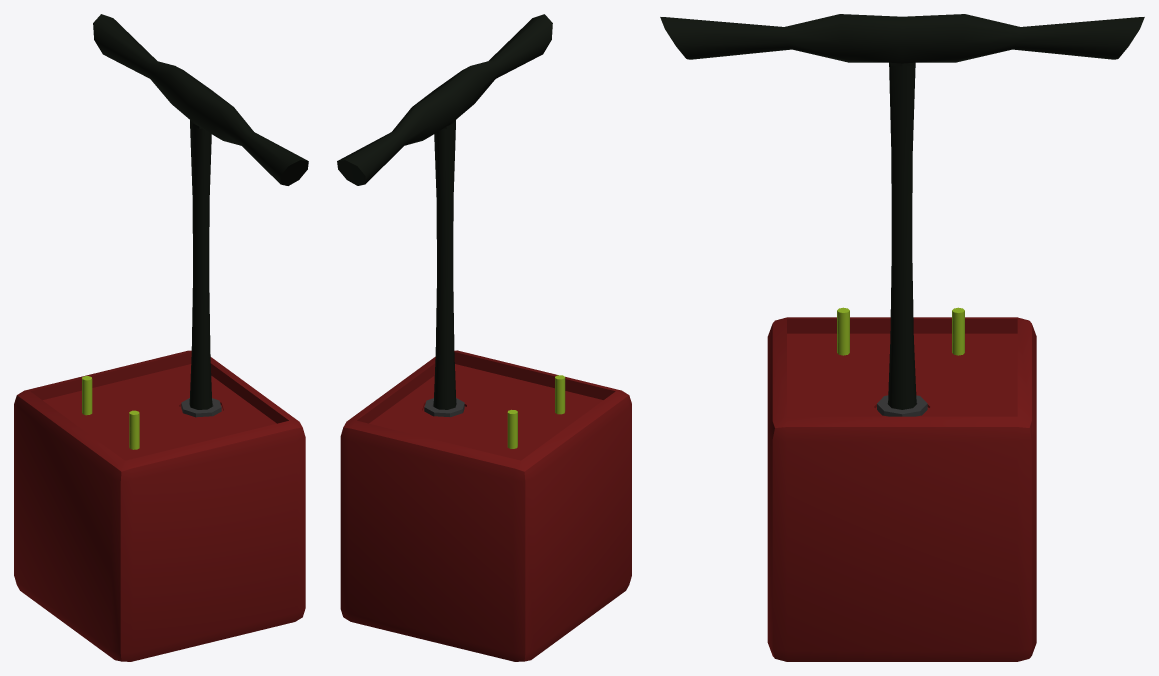
File: Detonator.fbx
3 renders of one model, left to right at view 1: azimuth 30°, elevation 25°; view 2: azimuth 150°, elevation 25°; view 3: azimuth 270°, elevation 25°, orthographic. The views are drawn at different scales.
Parts seen in each view (by area): view 1: Box001, Cylinder002, Object001; view 2: Box001, Cylinder002, Object001; view 3: Box001, Cylinder002.
Part boxes in pixels (<box>): Box001: <box>14,350,305,661</box>; Cylinder002: <box>93,14,308,409</box>; Object001: <box>181,398,221,417</box>; Box001: <box>340,350,631,661</box>; Cylinder002: <box>337,14,552,409</box>; Object001: <box>424,398,464,417</box>; Box001: <box>767,317,1036,661</box>; Cylinder002: <box>660,14,1144,409</box>.
Bounding box in the file's own units: 5 × 12.76 × 9.02.
